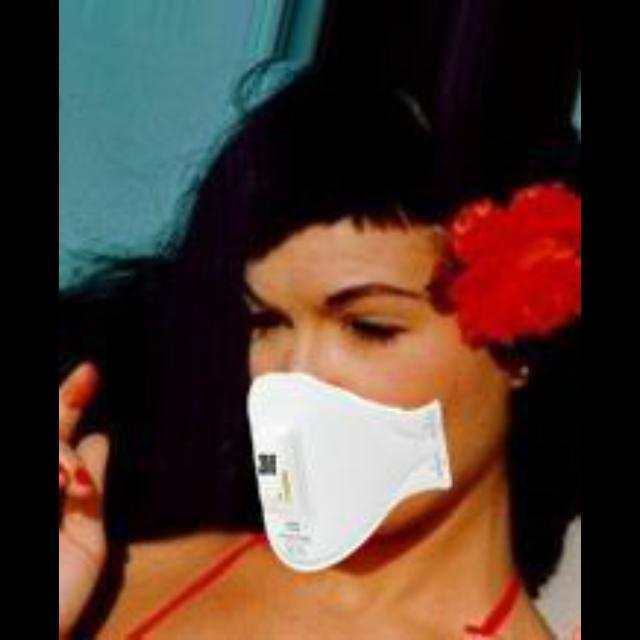suspicion: (219, 120, 506, 574)
